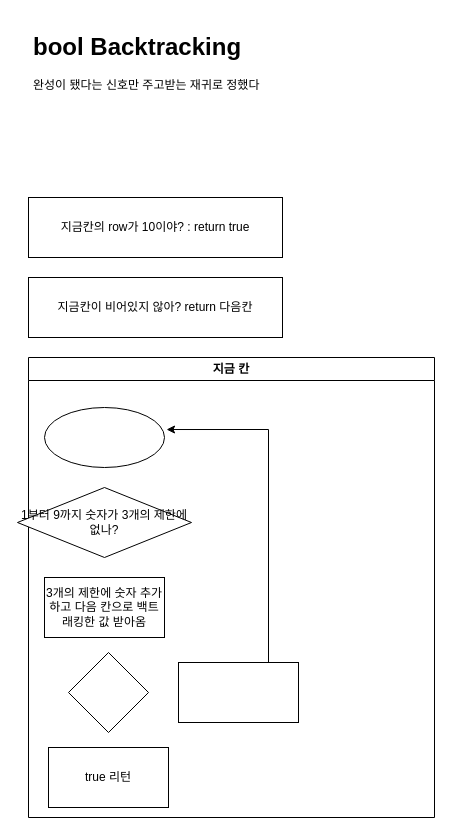
The diagram is 456 pixels wide and 835 high, and some of its shapes have lost their labels. The shapes that lost their labels are listed below. From the top down, each one's centre as x and y in pixels, then its label:
(x=104, y=437): 9번 반복
(x=108, y=692): 완성됐다는 true 냐
(x=238, y=692): 반복
